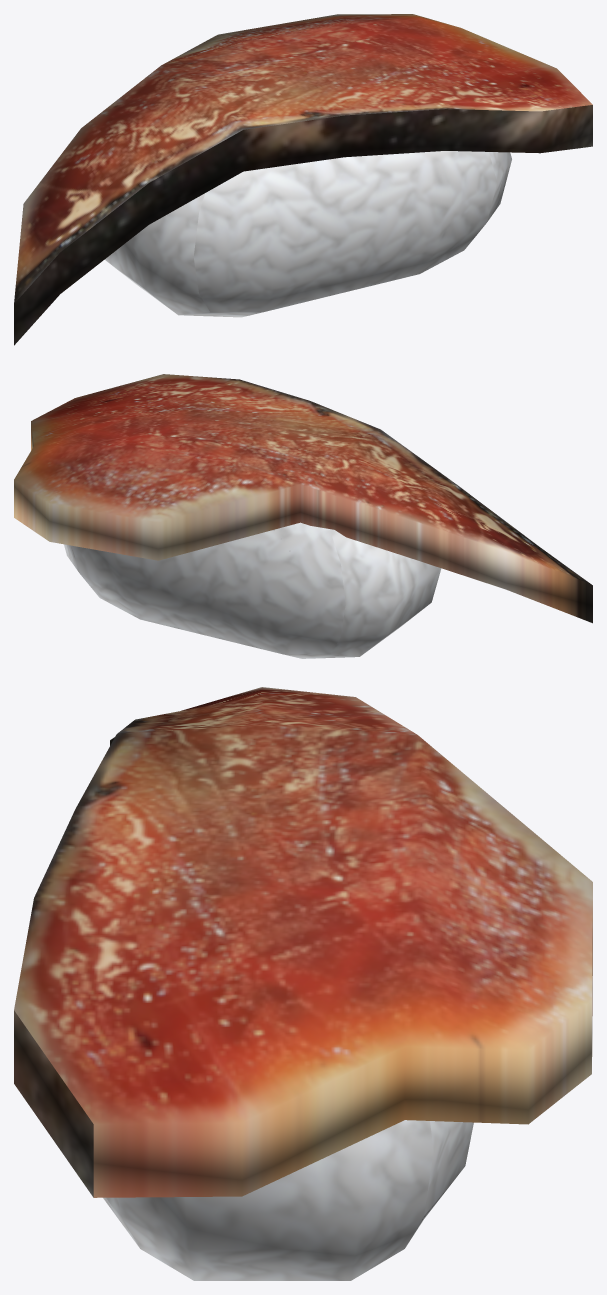
File: skipjack.fbx
3 renders of one model, top to bottom at view 1: azimuth 30°, elevation 25°; view 2: azimuth 150°, elevation 25°; view 3: azimuth 270°, elevation 25°, orthographic. The views are drawn at different scales.
Parts seen in each view (by area): view 1: skipjack; view 2: skipjack; view 3: skipjack.
Boxes of the visible parts, bbox=[...] form: skipjack: bbox=[14, 14, 592, 345]; skipjack: bbox=[14, 374, 592, 658]; skipjack: bbox=[14, 687, 592, 1280].
Bounding box in the file's own units: 8.94 × 3.12 × 4.38.
